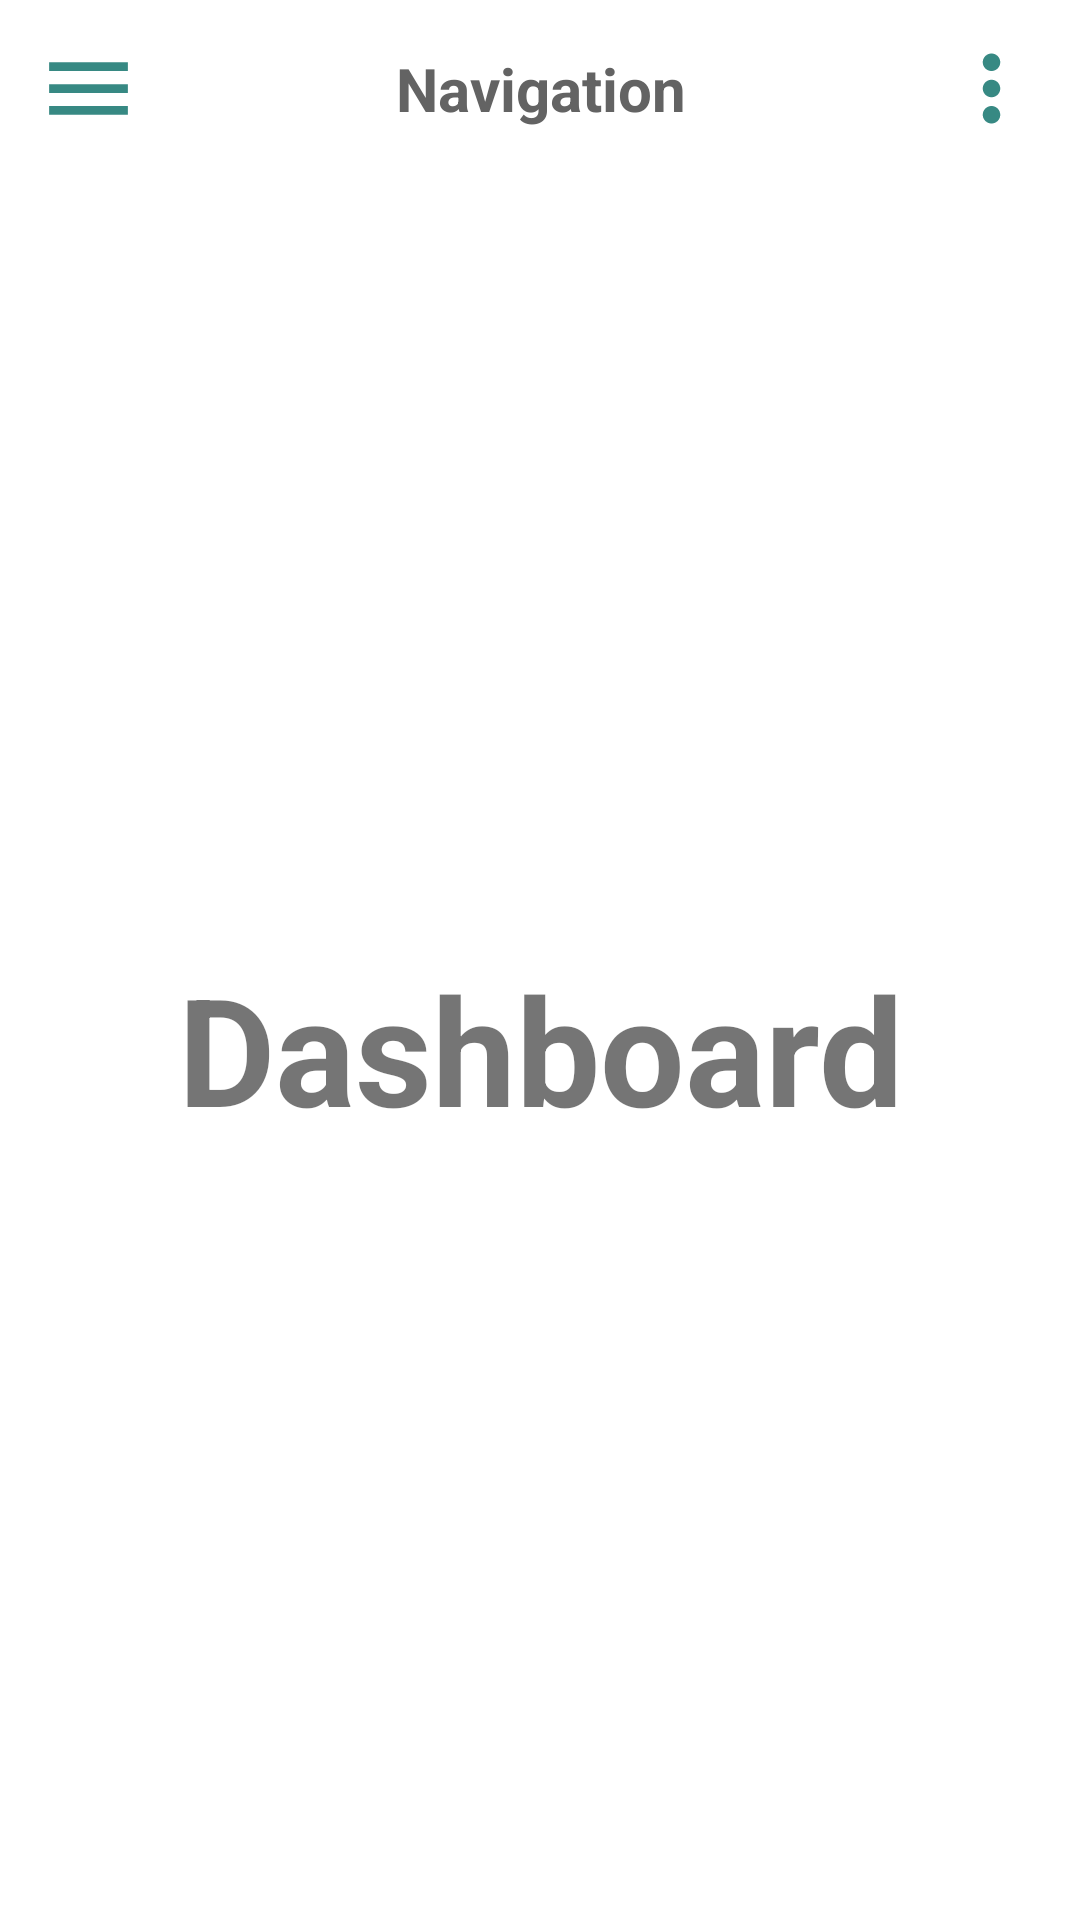

Icons on this 1080px x 1920px Android screen, each with its box as (x1, y1, x2, y2):
menu: (49, 62, 128, 115)
more: (982, 53, 1001, 124)
